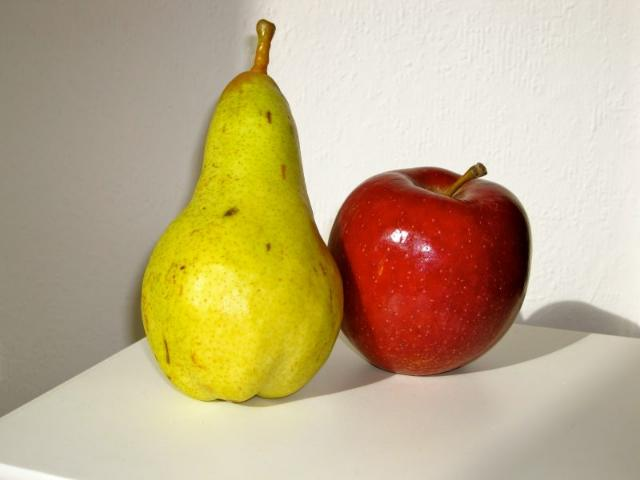Apples: (330, 168, 532, 376)
